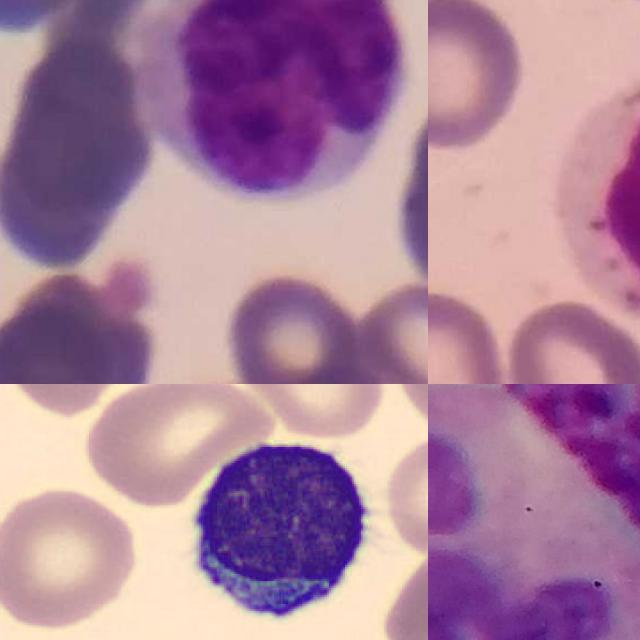Basophil: (502, 384, 640, 555)
Lymphocyte: (128, 0, 401, 201), (173, 428, 383, 636), (564, 63, 640, 337)
Neutrophil: (428, 384, 640, 640)
RBC: (78, 384, 275, 507), (0, 482, 144, 632), (240, 384, 389, 440), (380, 431, 428, 559), (378, 549, 428, 640)
